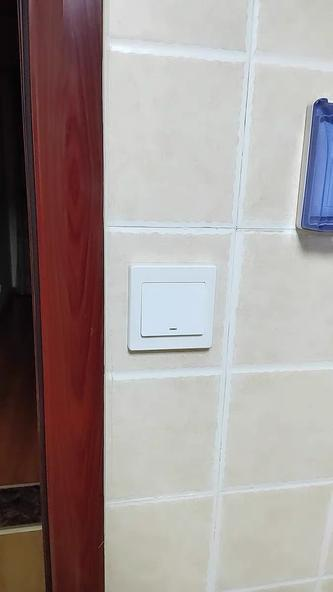switch: (150, 277, 207, 331)
